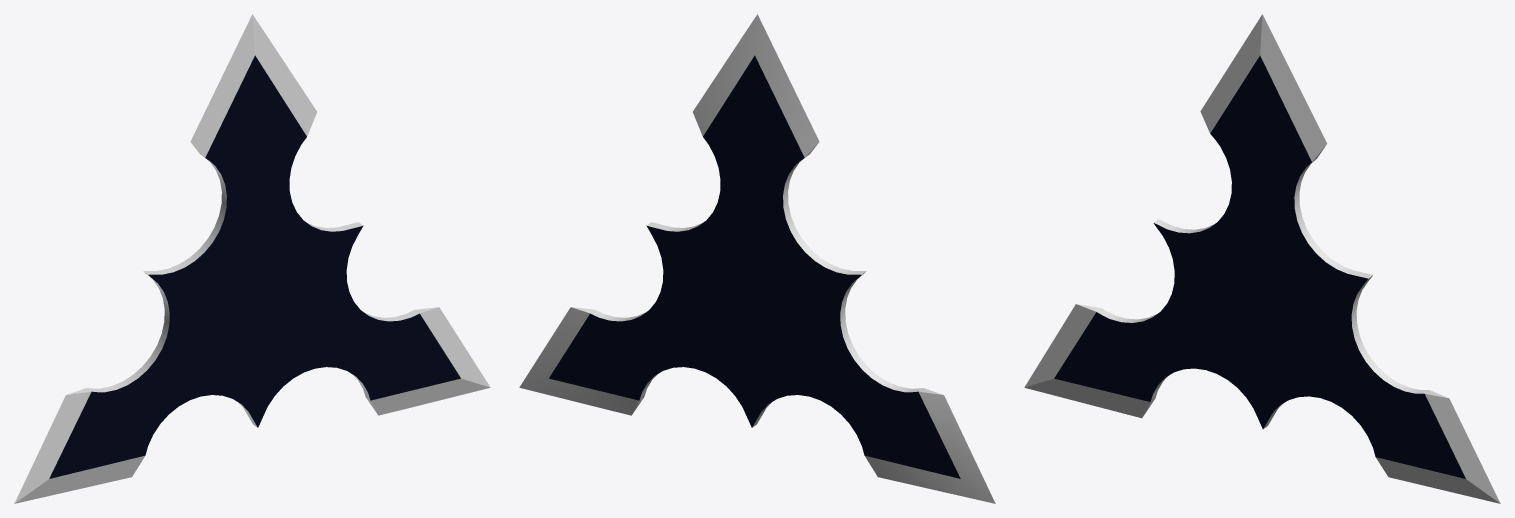
File: shuriken-by-ipoly3d-3QevnVpiqh.glb
3 views of the same model, side by side, from view 1: azimuth 30°, elevation 25°; view 2: azimuth 150°, elevation 25°; view 3: azimuth 330°, elevation 25° (orthographic).
Visible parts, largest first — view 1: Shuriken_10; view 2: Shuriken_10; view 3: Shuriken_10.
Boxes of the visible parts, left/top/right/bottom form: Shuriken_10: left=14, top=14, right=490, bottom=503; Shuriken_10: left=519, top=14, right=995, bottom=503; Shuriken_10: left=1024, top=14, right=1500, bottom=503.
Bounding box in the file's own units: 2 × 1.74 × 0.0368.
